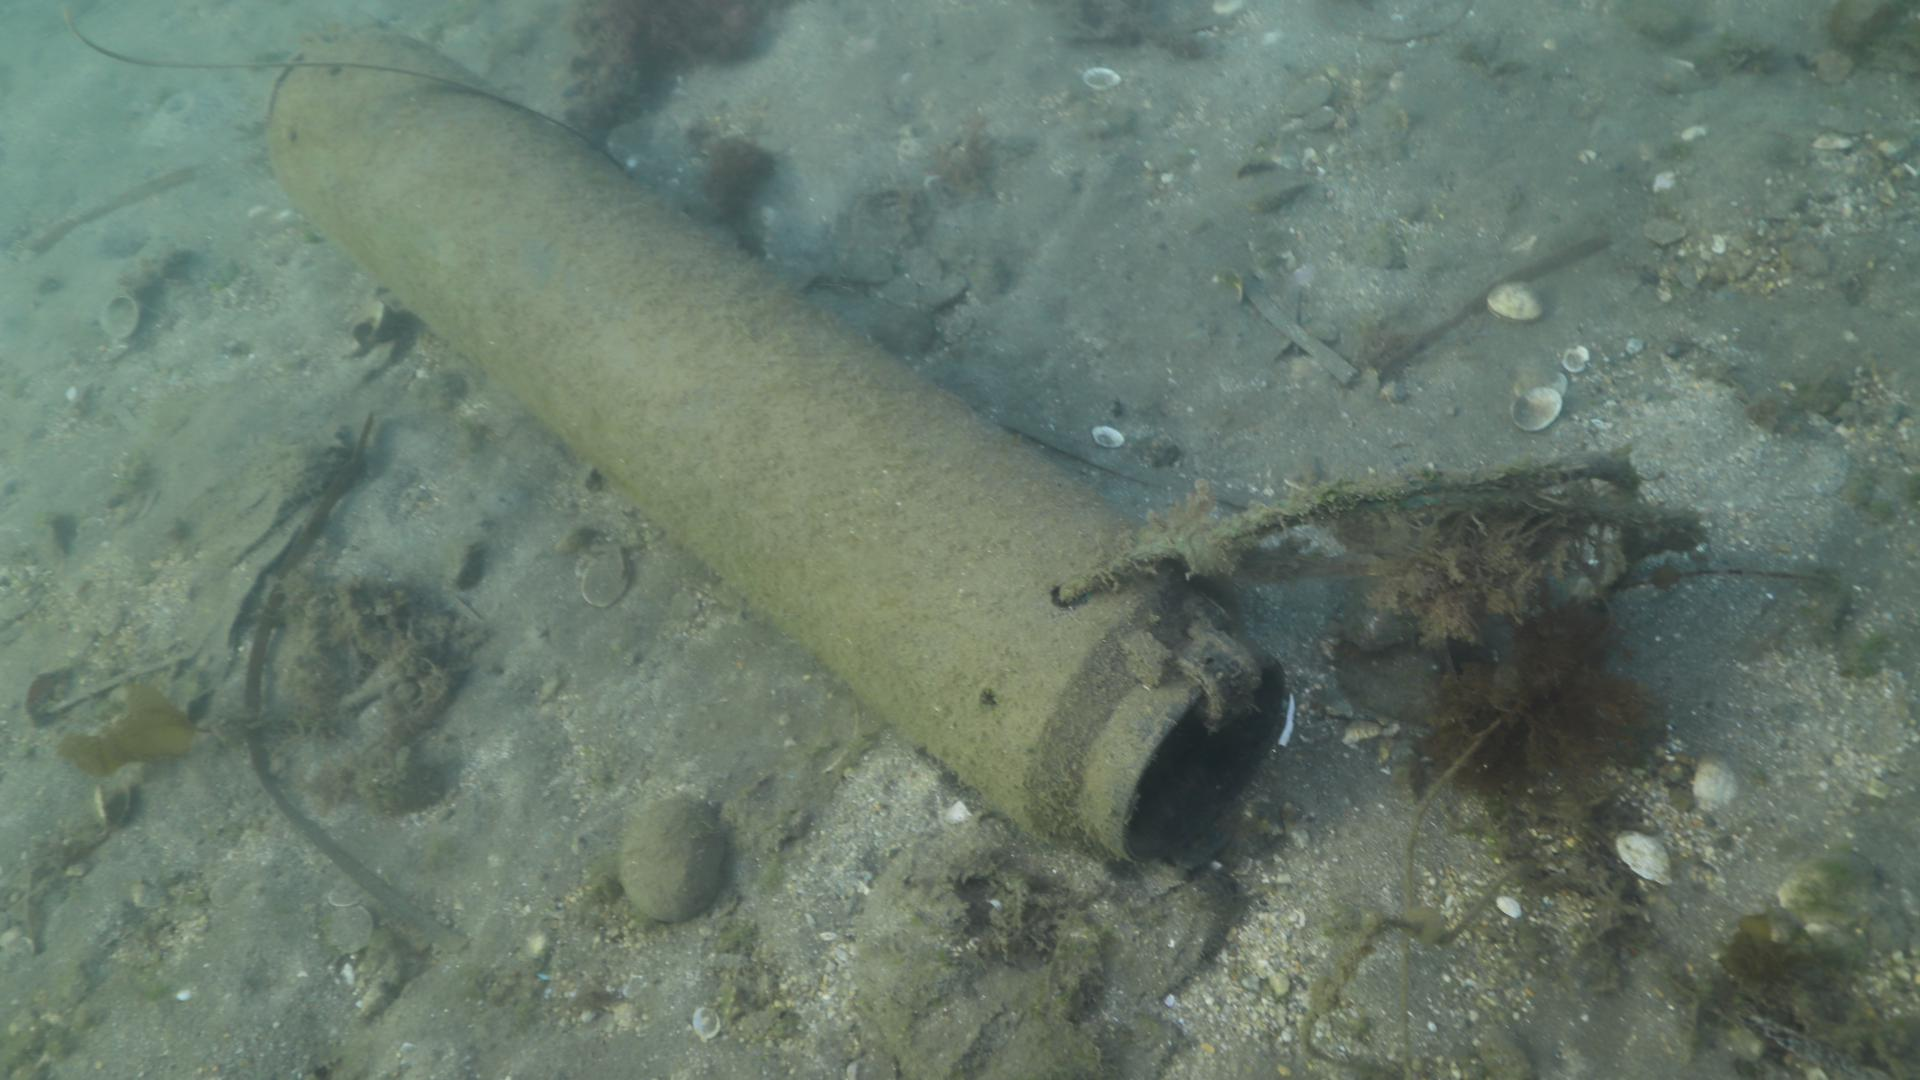bundle of ropes: (1054, 448, 1702, 604)
eel fish trap: (261, 24, 1288, 866)
